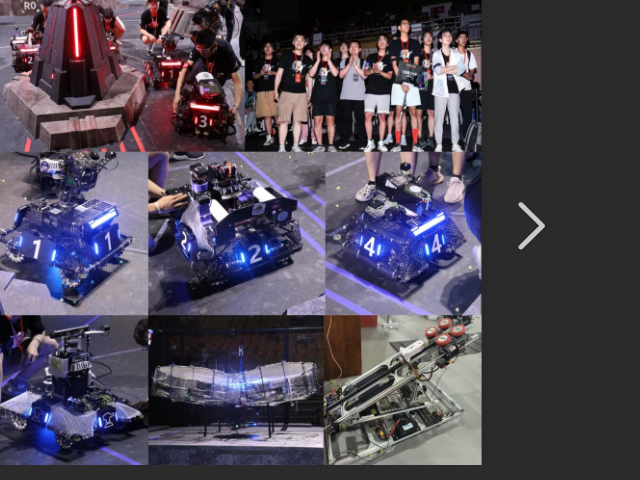rm: (2, 155, 132, 304), (3, 331, 143, 454), (173, 163, 301, 288), (337, 166, 457, 288), (153, 357, 316, 428), (178, 86, 229, 144), (148, 42, 187, 85), (12, 33, 40, 68)
